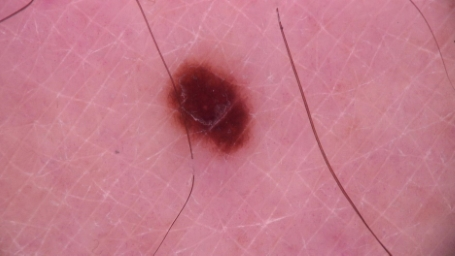nevus: (169, 57, 248, 156)
